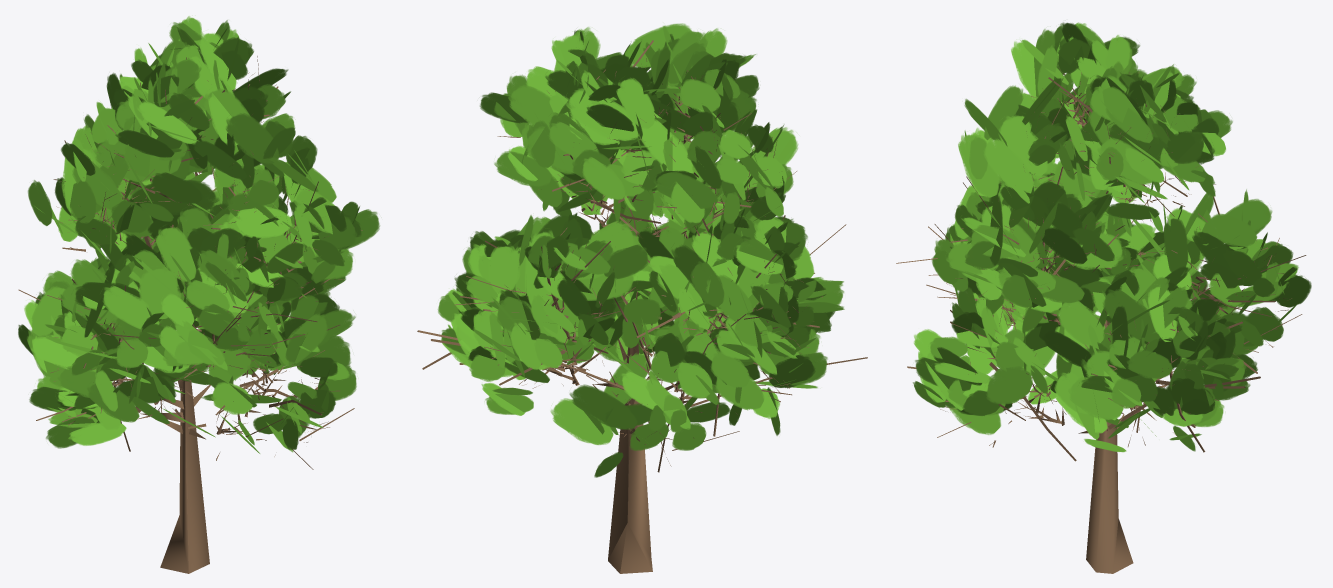
Rendered from stylized_tree.lod4.glb.
3 views of the same model, side by side, from view 1: azimuth 30°, elevation 25°; view 2: azimuth 150°, elevation 25°; view 3: azimuth 270°, elevation 25° (orthographic).
Parts seen in each view (by area): view 1: oak 01_leafes_Mat.001_0, oak 01.001_trunk_Mat.001_0; view 2: oak 01_leafes_Mat.001_0, oak 01.001_trunk_Mat.001_0; view 3: oak 01_leafes_Mat.001_0, oak 01.001_trunk_Mat.001_0.
Part boxes in pixels (x1=…): oak 01_leafes_Mat.001_0: x1=18, y1=16, x2=379, y2=453; oak 01.001_trunk_Mat.001_0: x1=18, y1=56, x2=362, y2=573; oak 01_leafes_Mat.001_0: x1=437, y1=23, x2=844, y2=477; oak 01.001_trunk_Mat.001_0: x1=417, y1=40, x2=867, y2=573; oak 01_leafes_Mat.001_0: x1=913, y1=22, x2=1311, y2=452; oak 01.001_trunk_Mat.001_0: x1=896, y1=68, x2=1306, y2=573.
Size of the model in its own units: 0.4164 by 0.5897 by 0.4267.
2 materials, 1 textured.
